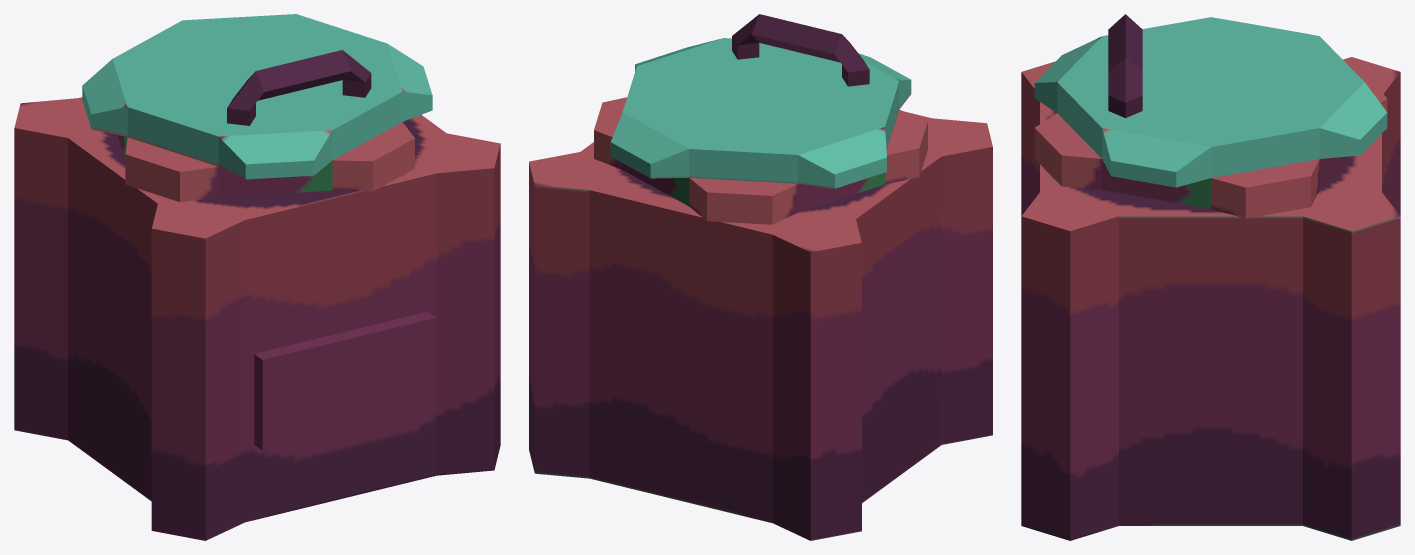
File: Former.fbx
3 views of the same model, side by side, from view 1: azimuth 30°, elevation 25°; view 2: azimuth 150°, elevation 25°; view 3: azimuth 270°, elevation 25° (orthographic). The views are drawn at different scales.
Parts seen in each view (by area): view 1: Base, Hatch, Lid, Drum; view 2: Base, Hatch, Drum; view 3: Base, Hatch, Drum.
Part boxes in pixels (x1,y1,x2,y2): Base: (14, 97, 500, 540); Hatch: (82, 14, 432, 179); Lid: (254, 311, 435, 450); Drum: (117, 122, 414, 202); Base: (529, 111, 992, 540); Hatch: (610, 14, 911, 188); Drum: (594, 97, 927, 224); Base: (1021, 57, 1400, 540); Hatch: (1034, 14, 1387, 187); Drum: (1034, 70, 1387, 218).
Bounding box in the file's own units: 1.21 × 1.35 × 1.11.
